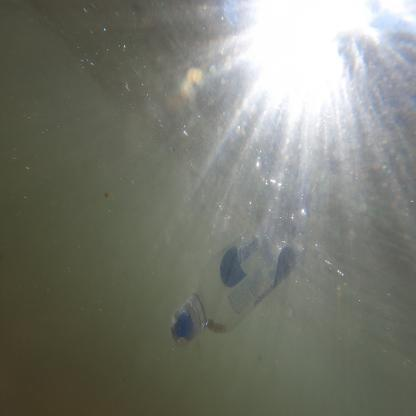Rác: (165, 204, 316, 354)
